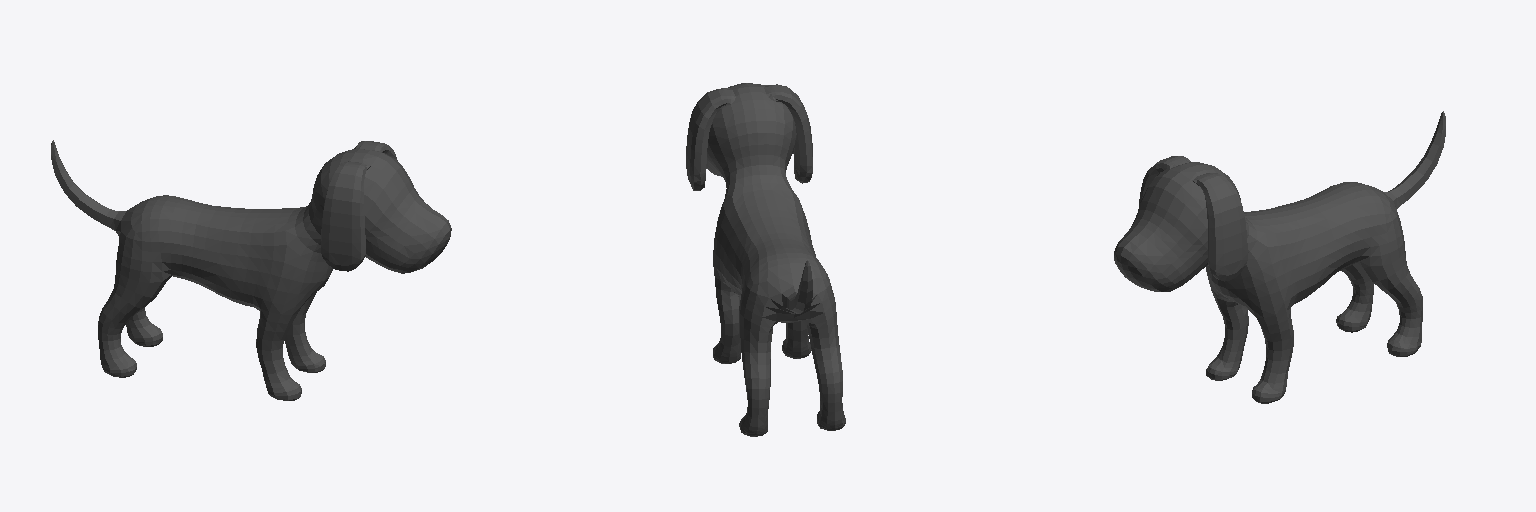
File: dog.obj
3 renders of one model, left to right at view 1: azimuth 30°, elevation 25°; view 2: azimuth 150°, elevation 25°; view 3: azimuth 270°, elevation 25°, orthographic.
Parts seen in each view (by area): view 1: mesh_id23; view 2: mesh_id23; view 3: mesh_id23.
Boxes of the visible parts, x1,y1,x2,y2 form: mesh_id23: [51, 140, 451, 400]; mesh_id23: [686, 83, 845, 436]; mesh_id23: [1114, 111, 1445, 403].
Bounding box in the file's own units: 154 × 142 × 178.